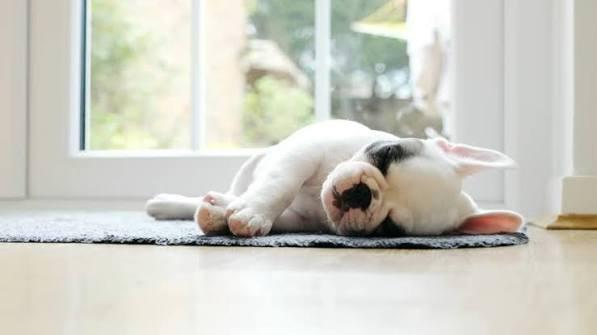puppy-dog: (149, 123, 525, 240)
